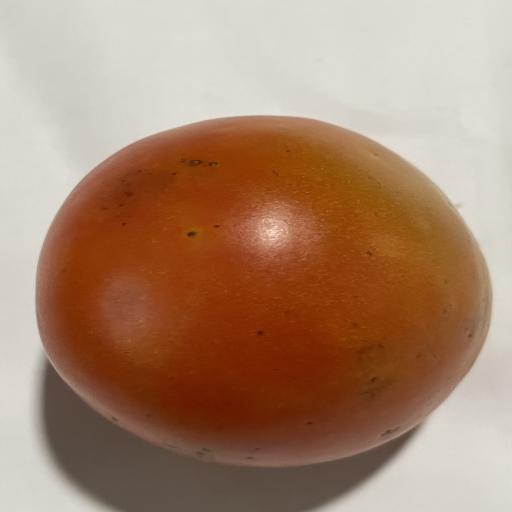ripe: (37, 116, 490, 467)
